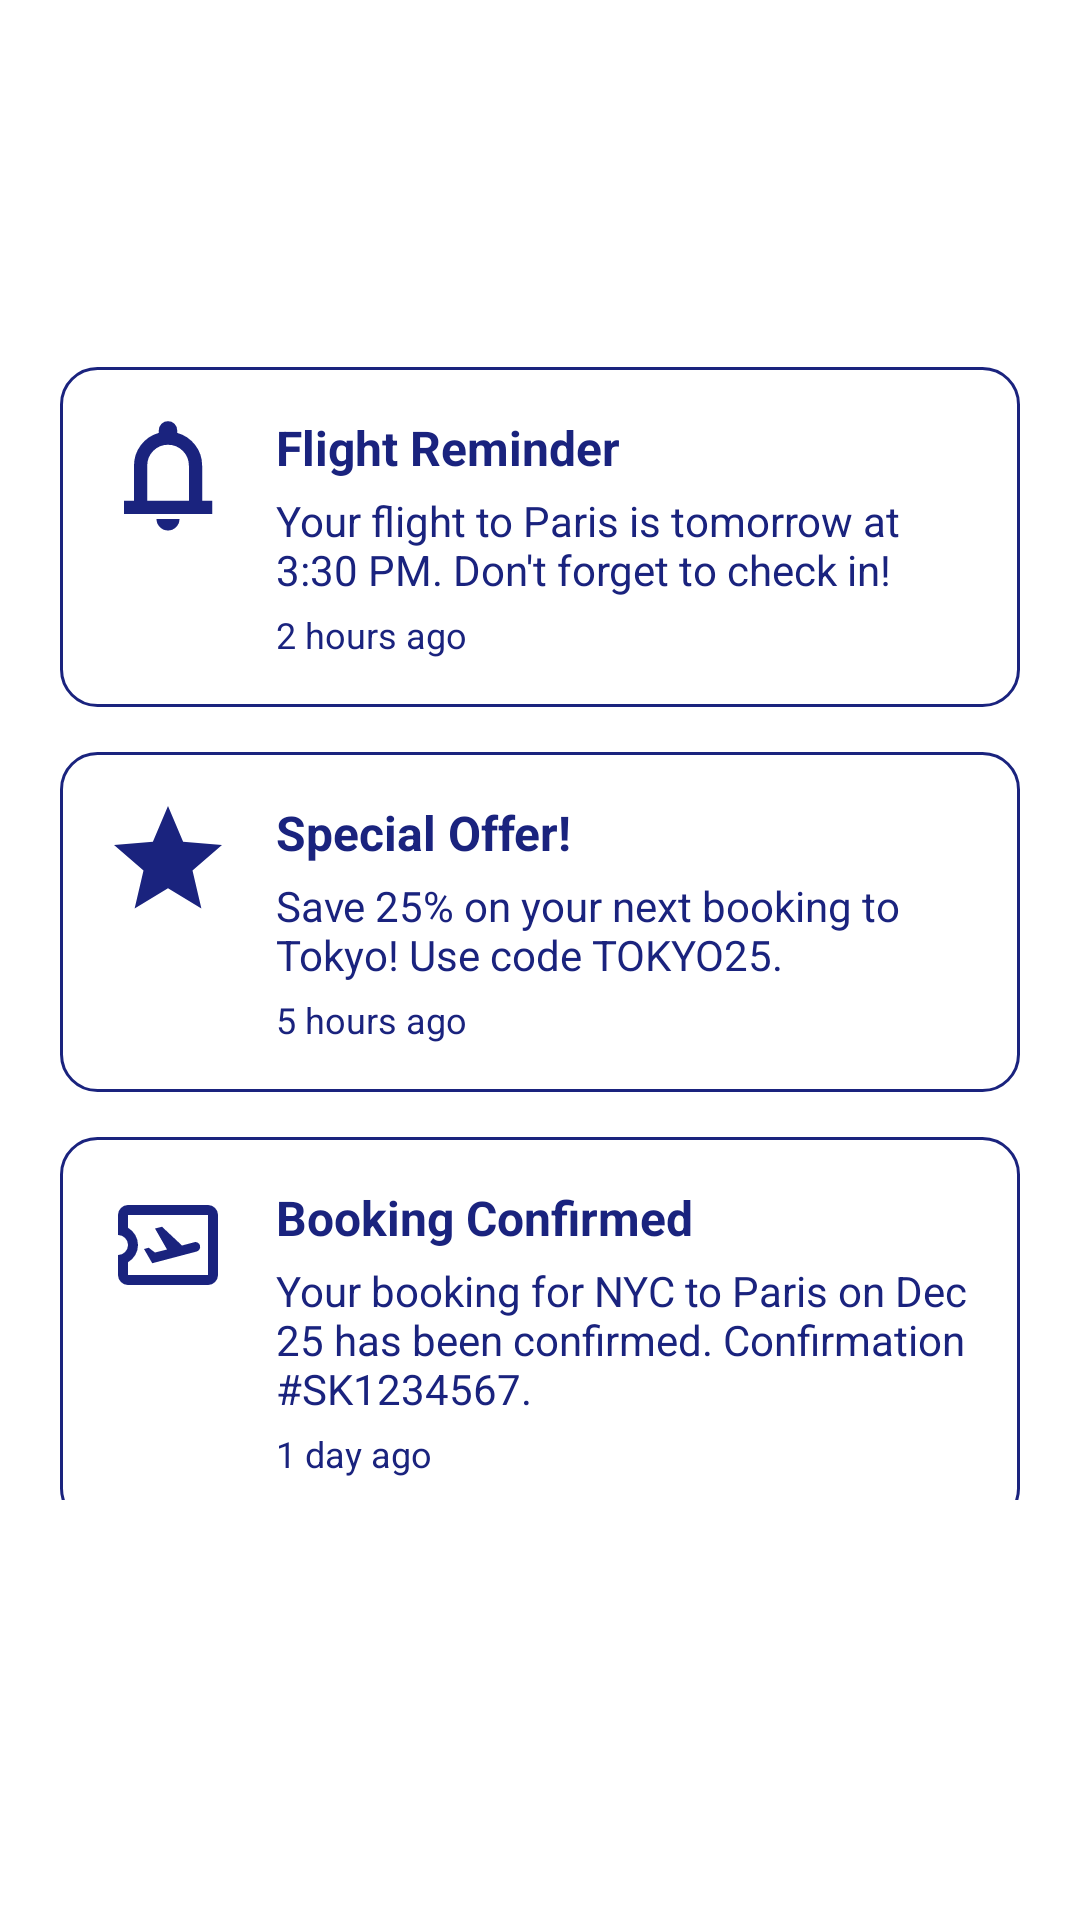

Named icons in this screenshot (1080×1920) and their centers, (x,y):
Booking Update: (168,1245)
